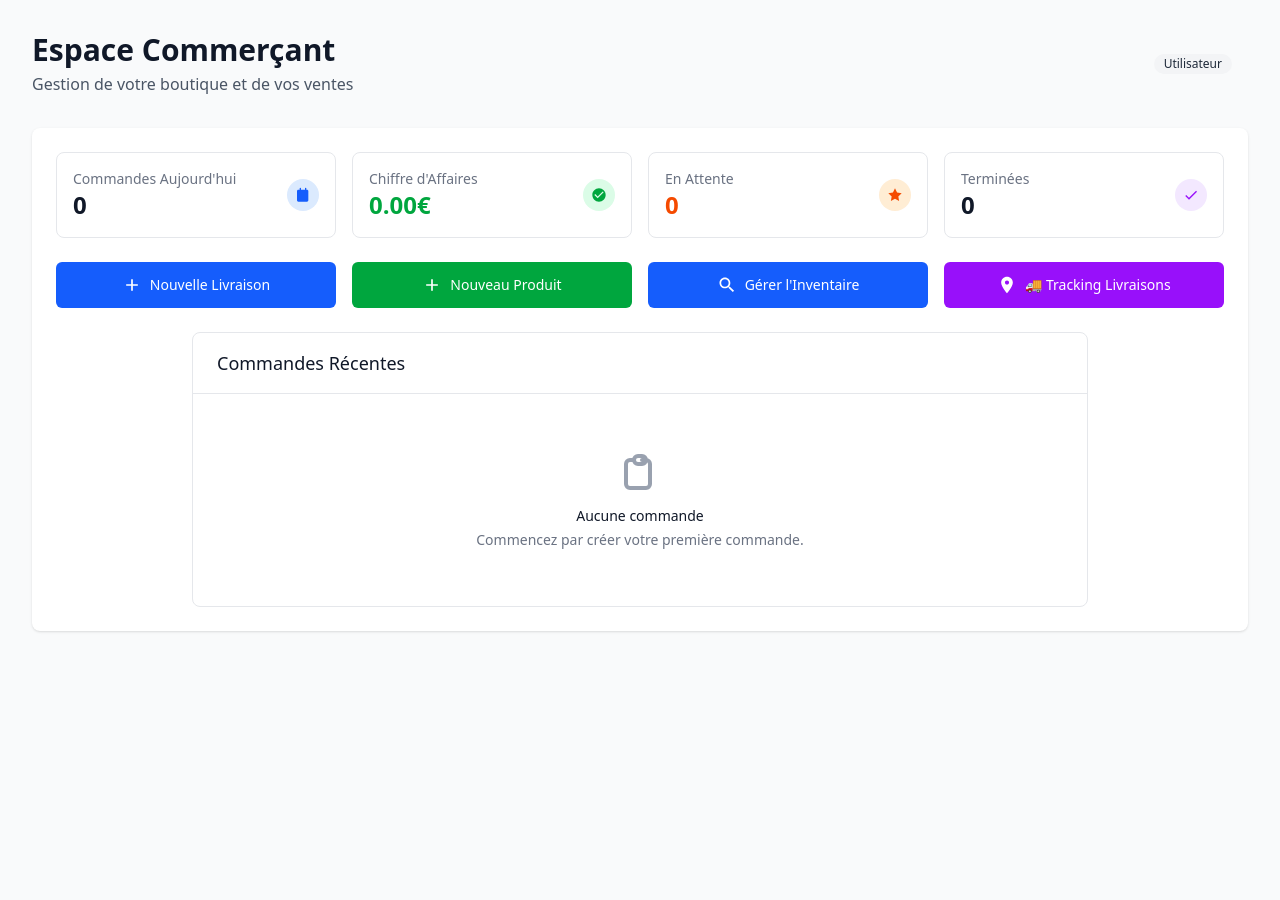
Test case: MerchantDashboard › Order creation modal › should close modal when cancel button is clicked
// Open modal
Step 1. Click the button "Nouvelle Livraison" → (196, 285), box [56, 262, 336, 308]
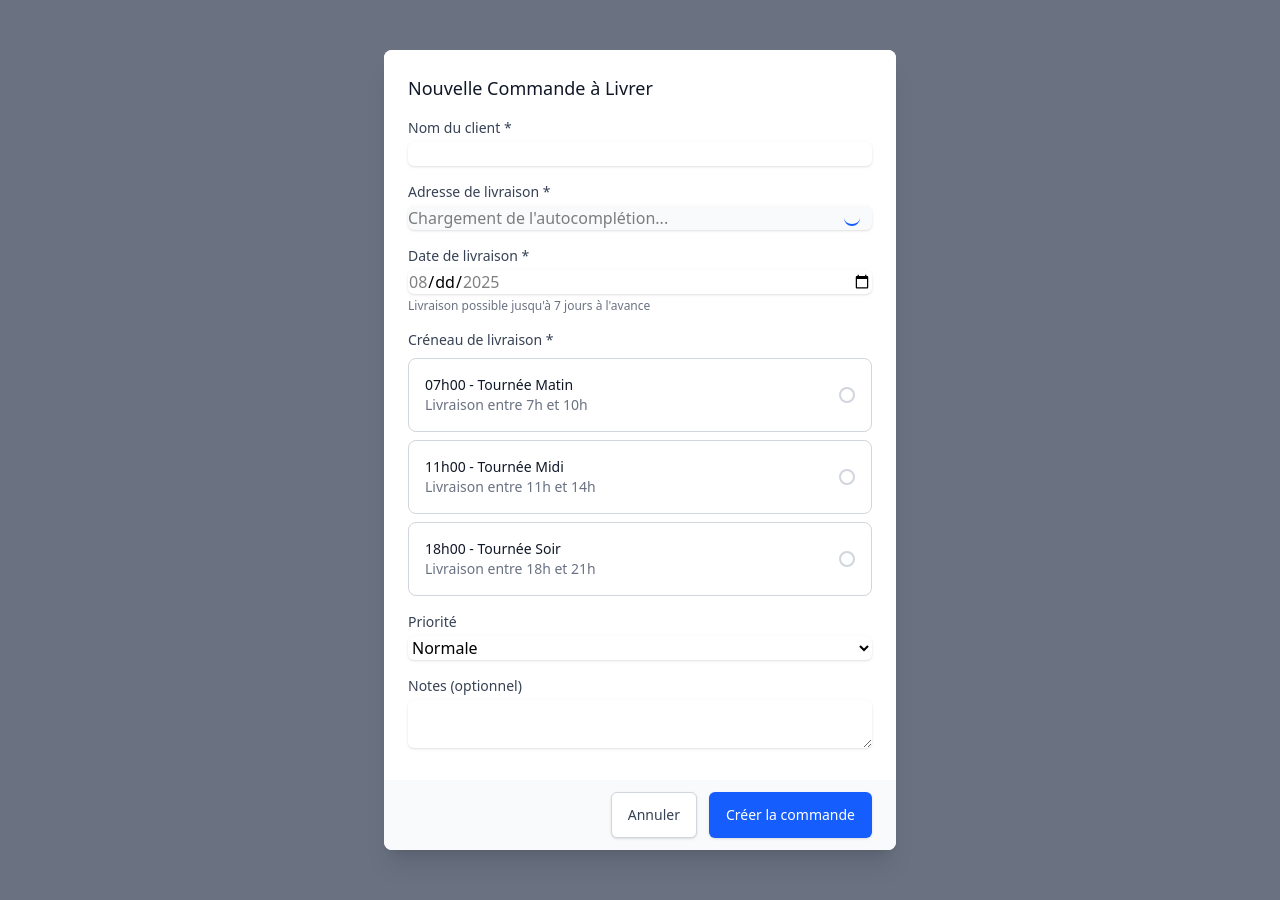
// Close modal
Step 2. Click the button "Annuler" → (654, 815), box [611, 792, 697, 838]
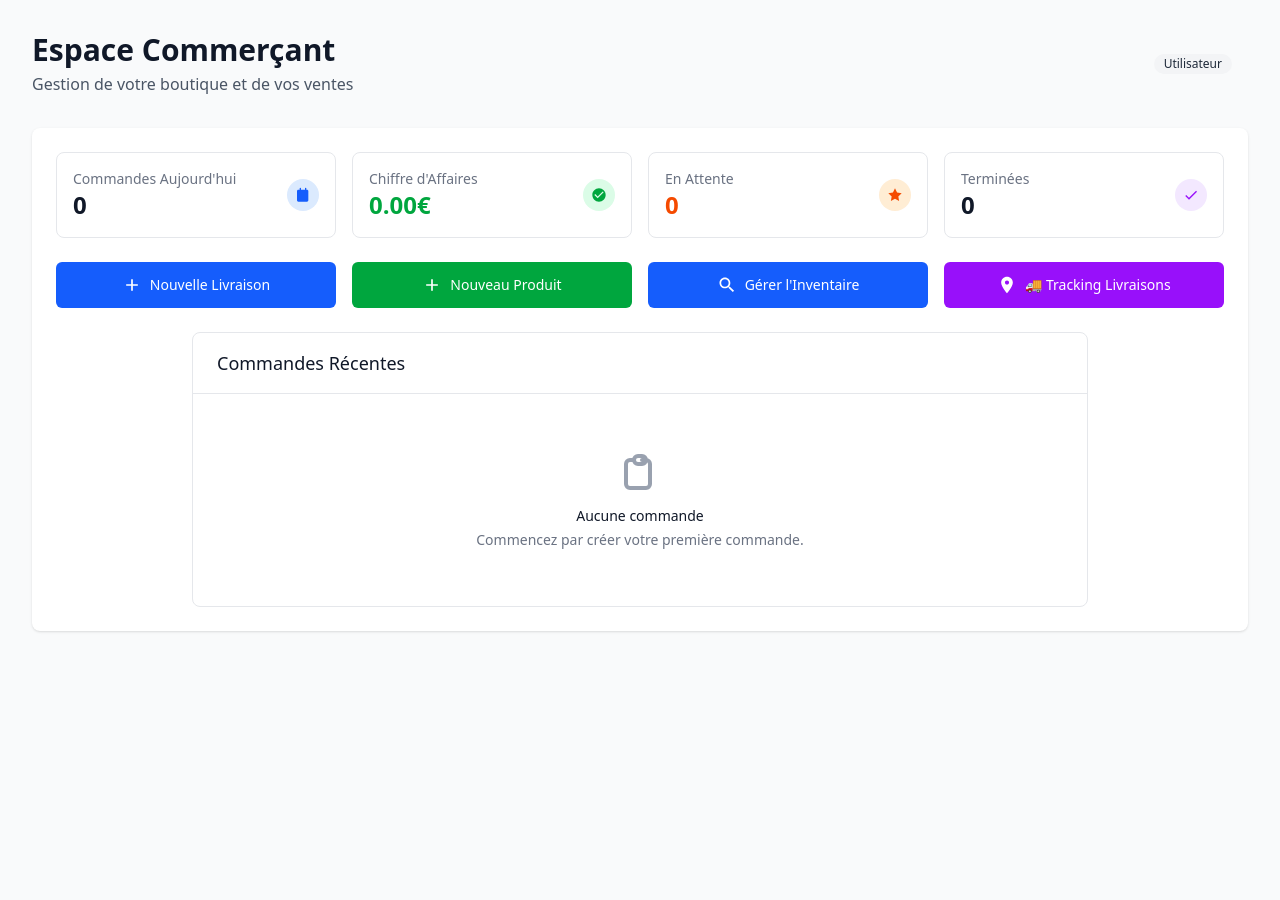
Now the heading "Nouvelle Commande à Livrer" is gone
